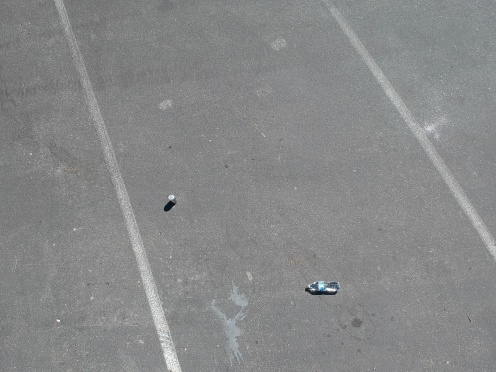bottle: (303, 276, 344, 295)
can: (162, 191, 179, 206)
